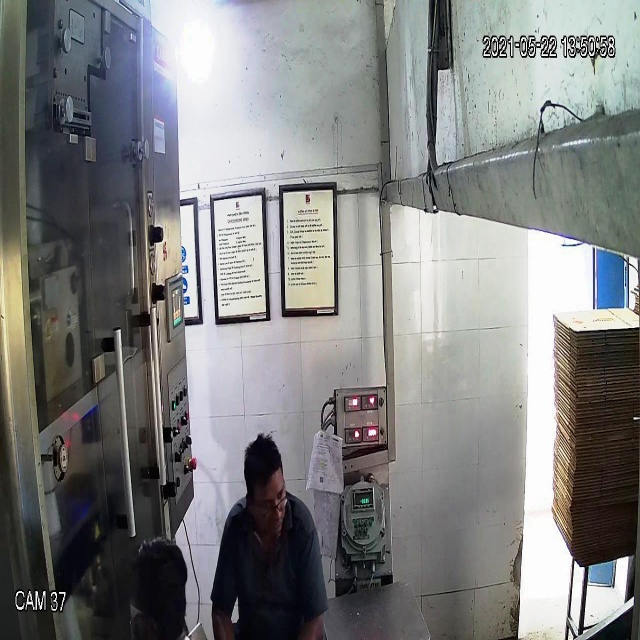Gafas: (253, 487, 292, 527)
